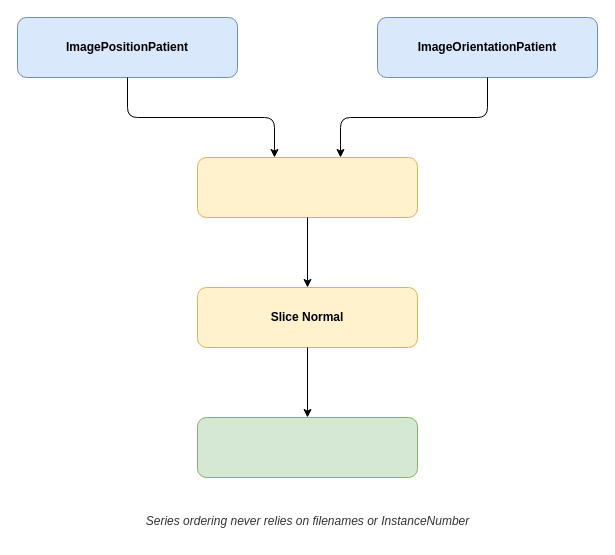
Image size: 615x555. Some labels were removed from this diagram. Each missing label, with the centre of its shape:
"Slice Geometry" goes at (x=307, y=187).
"Spatial Ordering" goes at (x=307, y=447).
